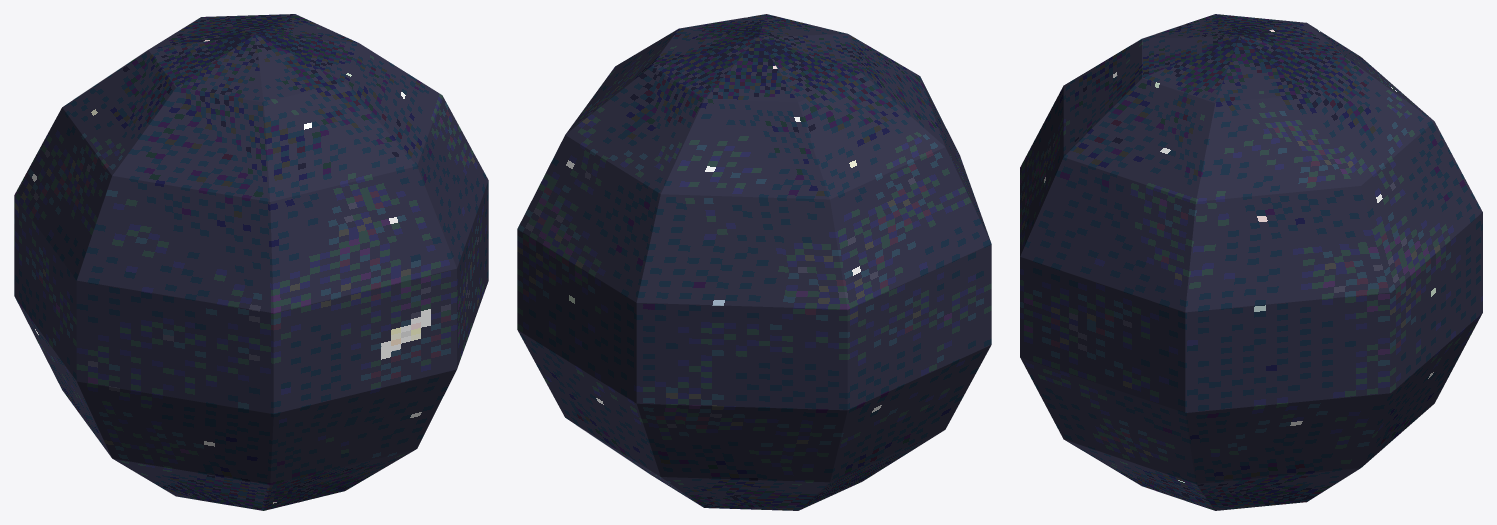
The model's file is skybox.glb.
The picture shows the model from 3 angles, left to right: view 1: azimuth 30°, elevation 25°; view 2: azimuth 150°, elevation 25°; view 3: azimuth 270°, elevation 25°; orthographic projection.
Parts seen in each view (by area): view 1: skybox; view 2: skybox; view 3: skybox.
Boxes of the visible parts, bbox=[...] form: skybox: bbox=[14, 14, 488, 510]; skybox: bbox=[517, 14, 991, 510]; skybox: bbox=[1020, 14, 1482, 510].
Bounding box in the file's own units: 190 × 200 × 185.
1 material, 1 textured.
